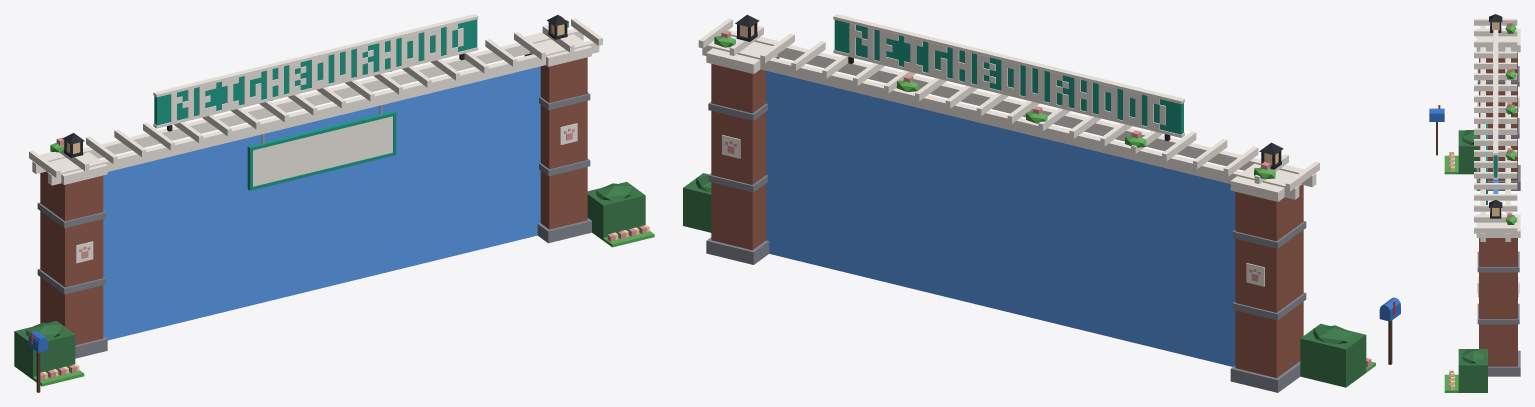
Rendered from CatCafe_Neighbourhood_Gate.glb.
3 views of the same model, side by side, from view 1: azimuth 30°, elevation 25°; view 2: azimuth 150°, elevation 25°; view 3: azimuth 270°, elevation 25° (orthographic). The views are drawn at different scales.
Visible parts, largest first — view 1: CatCafe_Neighbourhood_Gate_Bars, CatCafe_Neighbourhood_Gate, CatCafe_Neighbourhood_Gate_SignBoard, CatCafe_Neighbourhood_Gate_Flowers; view 2: CatCafe_Neighbourhood_Gate_Bars, CatCafe_Neighbourhood_Gate; view 3: CatCafe_Neighbourhood_Gate, CatCafe_Neighbourhood_Gate_Flowers, CatCafe_Neighbourhood_Gate_Lamp_Bulb.
Part boxes in pixels (x1,y1,x2,y2): CatCafe_Neighbourhood_Gate_Bars: (103, 66, 540, 340); CatCafe_Neighbourhood_Gate: (14, 14, 645, 392); CatCafe_Neighbourhood_Gate_SignBoard: (253, 116, 392, 186); CatCafe_Neighbourhood_Gate_Flowers: (33, 16, 654, 386); CatCafe_Neighbourhood_Gate_Bars: (766, 71, 1235, 366); CatCafe_Neighbourhood_Gate: (683, 14, 1400, 392); CatCafe_Neighbourhood_Gate: (1429, 14, 1520, 392); CatCafe_Neighbourhood_Gate_Flowers: (1444, 21, 1512, 392); CatCafe_Neighbourhood_Gate_Lamp_Bulb: (1492, 22, 1499, 216).
Bounding box in the file's own units: 44.62 × 15.9 × 7.15.
Materials: 1 (1 with a texture image).
